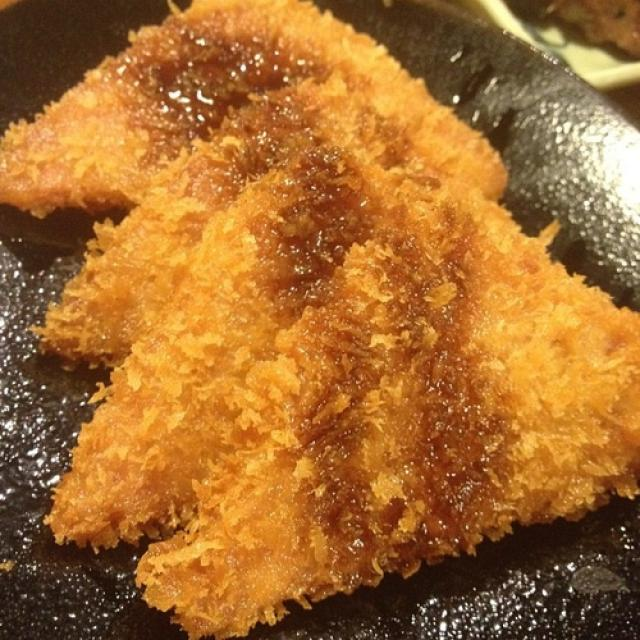炸货点心: (11, 11, 634, 628)
